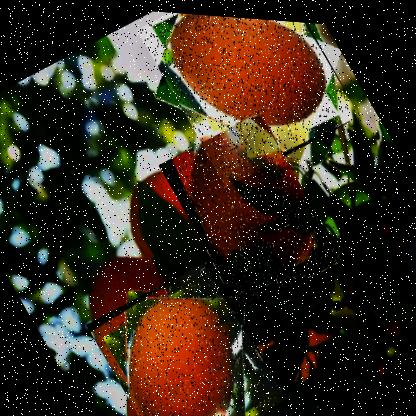orange: (134, 8, 360, 192), (156, 101, 342, 313), (84, 248, 288, 415)
